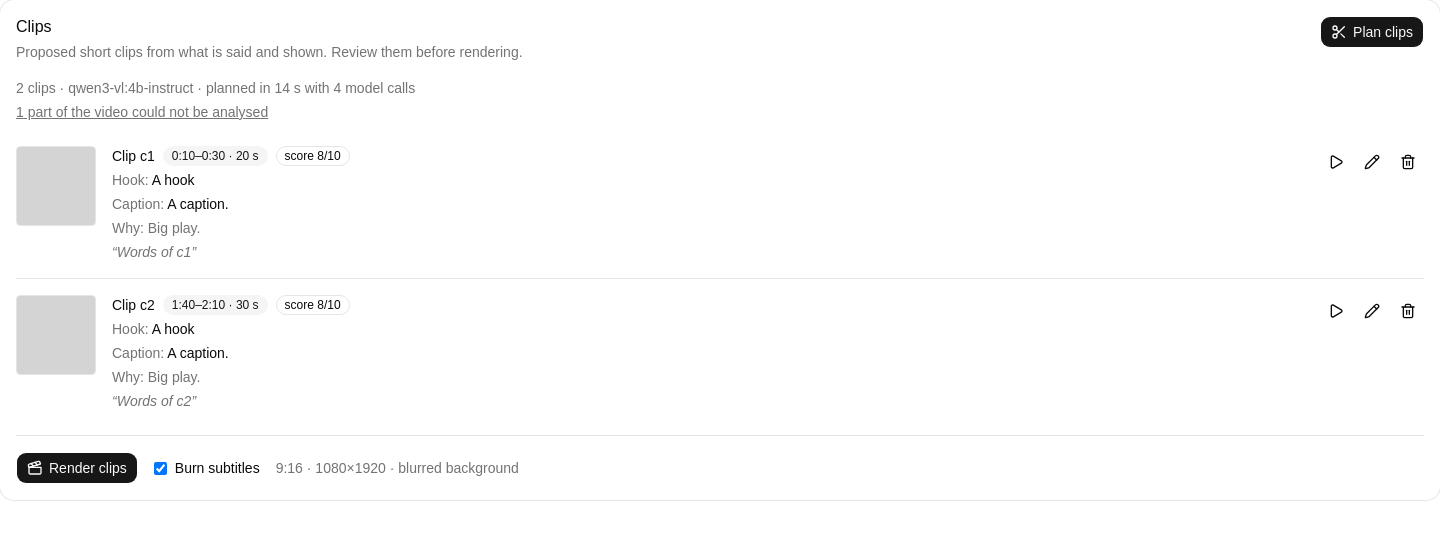
it: ClipsCard › lists the kept clips with their copy, times and skipped parts
Check: the list item "Clip c1" shows "0:10–0:30 · 20 s", box [16,130,1424,279]
Check: the text "Why: Big play." below "Clip c1" is shown, box [112,220,200,236]
Click the button "1 part of the video could not be analysed".
click(160, 112)  # box [16,102,1424,122]
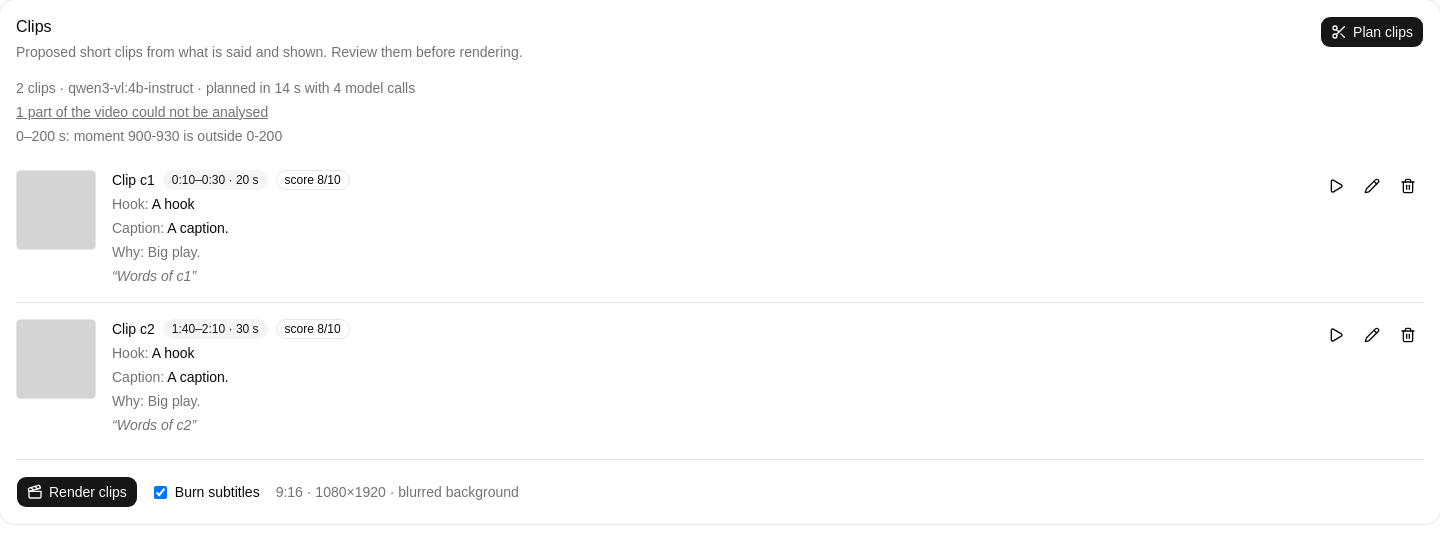
Check: the list item "0–200 s: moment 900-930 is outside 0-200" is shown, box [16,128,282,144]
